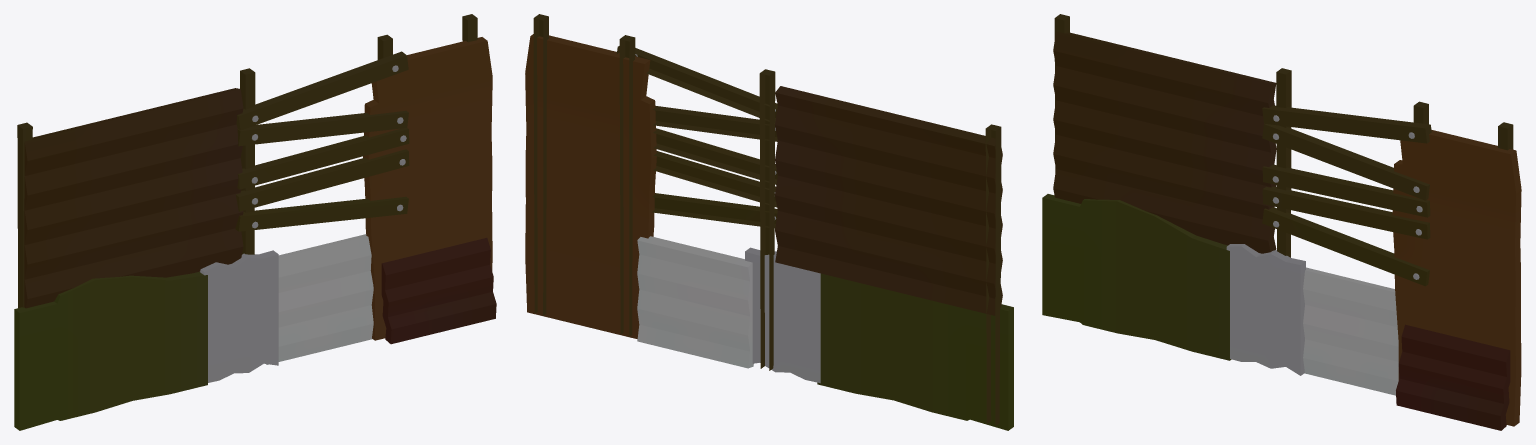
Rendered from Muro3.fbx.
3 renders of one model, left to right at view 1: azimuth 30°, elevation 25°; view 2: azimuth 150°, elevation 25°; view 3: azimuth 330°, elevation 25°, orthographic. The views are drawn at different scales.
Visible parts, largest first — view 1: TelhaGrande, PlacaMetalica1, Tapume, TelhaPequena2, TelhaPequena1, PlacaMetalica2, Madeira1, Madeira5, Madeira3, Madeira4, PilarMadeira, Madeira2; view 2: TelhaGrande, Tapume, PlacaMetalica1, TelhaPequena2, PilarMadeira, PlacaMetalica2, Madeira1, PilarMadeira2, Madeira3, Madeira5, Madeira4, Madeira2; view 3: TelhaGrande, Tapume, PlacaMetalica1, TelhaPequena2, TelhaPequena1, PlacaMetalica2, Madeira4, Madeira2, Madeira1, Madeira5, Madeira3, PilarMadeira.
Boxes of the visible parts, bbox=[...] form: TelhaGrande: bbox=[24, 88, 243, 308]; PlacaMetalica1: bbox=[14, 271, 207, 430]; Tapume: bbox=[363, 37, 492, 340]; TelhaPequena2: bbox=[266, 234, 373, 364]; TelhaPequena1: bbox=[381, 237, 496, 344]; PlacaMetalica2: bbox=[200, 250, 278, 382]; Madeira1: bbox=[236, 51, 408, 130]; Madeira5: bbox=[236, 149, 409, 211]; Madeira3: bbox=[237, 128, 409, 189]; Madeira4: bbox=[235, 196, 408, 231]; PilarMadeira: bbox=[17, 14, 477, 307]; Madeira2: bbox=[237, 110, 408, 146]; TelhaGrande: bbox=[775, 86, 1002, 315]; Tapume: bbox=[525, 34, 656, 339]; PlacaMetalica1: bbox=[817, 273, 1013, 430]; TelhaPequena2: bbox=[637, 236, 753, 368]; PilarMadeira: bbox=[533, 14, 1001, 425]; PlacaMetalica2: bbox=[745, 247, 820, 383]; Madeira1: bbox=[617, 46, 777, 123]; PilarMadeira2: bbox=[619, 35, 635, 336]; Madeira3: bbox=[653, 128, 777, 184]; Madeira5: bbox=[653, 151, 777, 207]; Madeira4: bbox=[652, 193, 777, 228]; Madeira2: bbox=[652, 105, 777, 141]; TelhaGrande: bbox=[1053, 31, 1276, 253]; Tapume: bbox=[1392, 129, 1521, 426]; PlacaMetalica1: bbox=[1042, 194, 1231, 360]; TelhaPequena2: bbox=[1303, 267, 1398, 395]; TelhaPequena1: bbox=[1396, 324, 1510, 430]; PlacaMetalica2: bbox=[1226, 244, 1305, 375]; Madeira4: bbox=[1262, 207, 1429, 286]; Madeira2: bbox=[1262, 123, 1429, 200]; Madeira1: bbox=[1262, 105, 1431, 143]; Madeira5: bbox=[1262, 186, 1430, 239]; Madeira3: bbox=[1262, 164, 1430, 217]; PilarMadeira: bbox=[1054, 14, 1513, 257].
Size of the model in its own units: 251 by 150 by 17.11.
